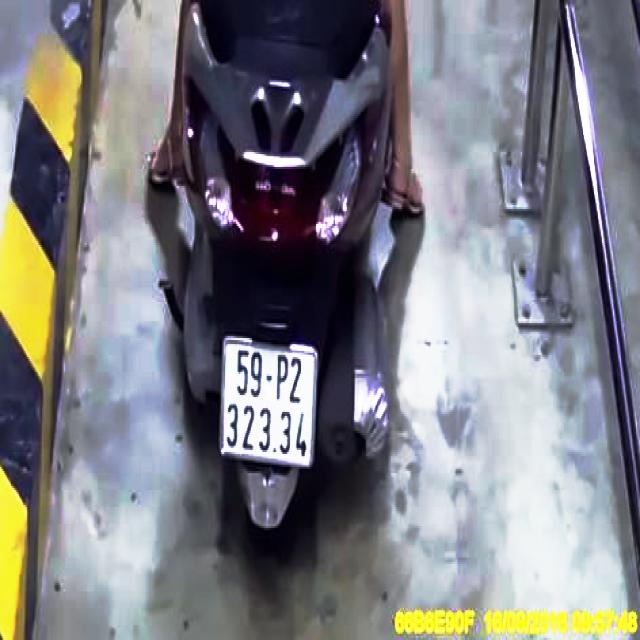license_plate: (224, 336, 317, 473)
